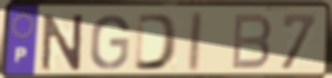7: (281, 11, 319, 72)
B: (229, 12, 274, 72)
D: (132, 12, 181, 72)
G: (87, 13, 132, 72)
I: (184, 10, 206, 75)
N: (39, 12, 86, 73)
